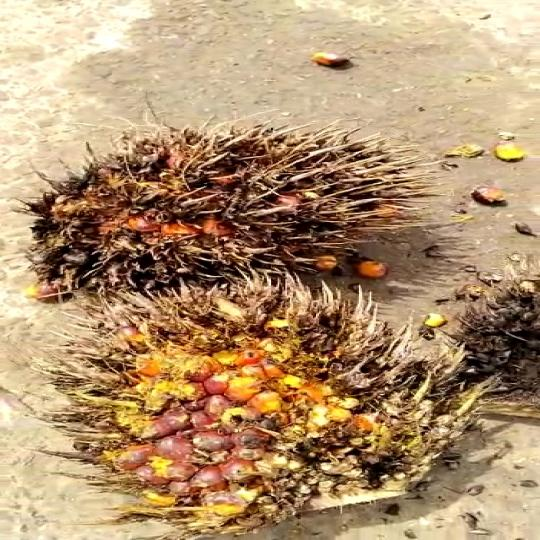terlalu masak: (22, 290, 470, 532), (0, 128, 428, 302)
